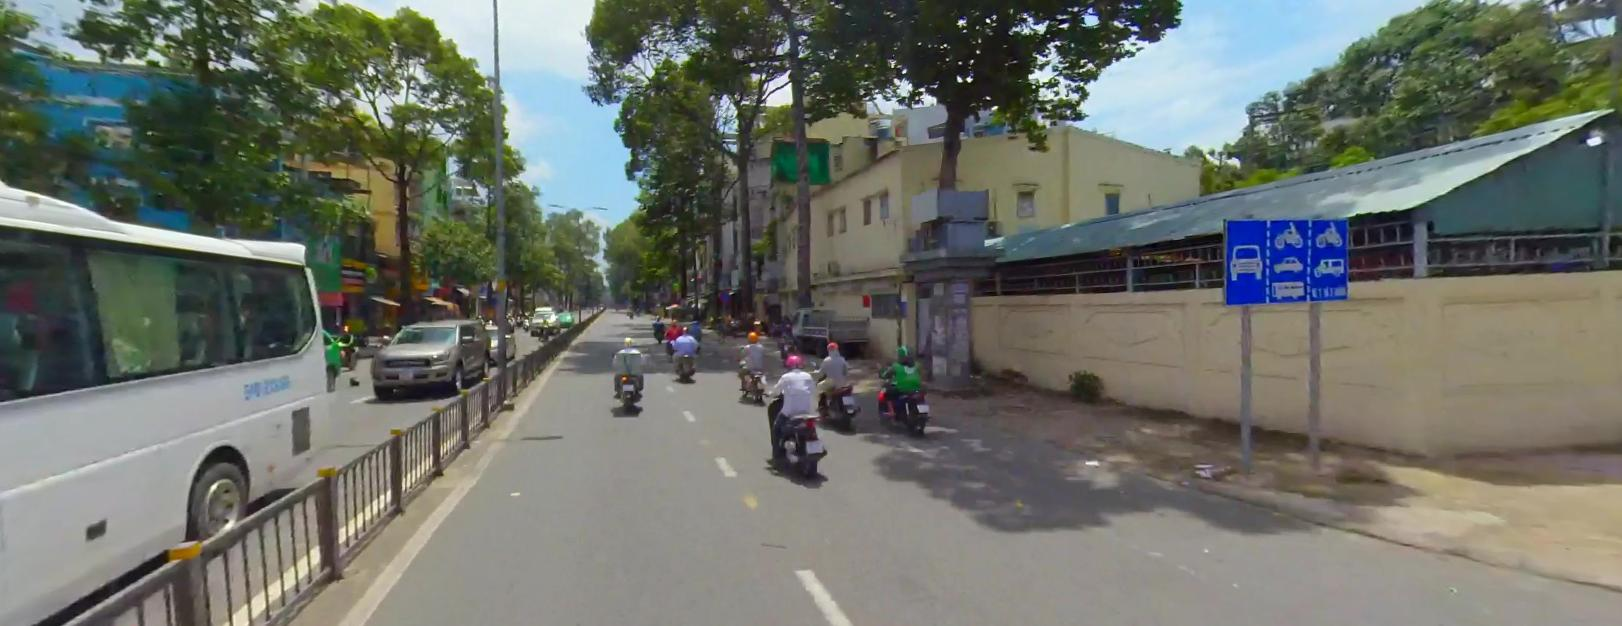Cam dung va do: (719, 289, 730, 300)
